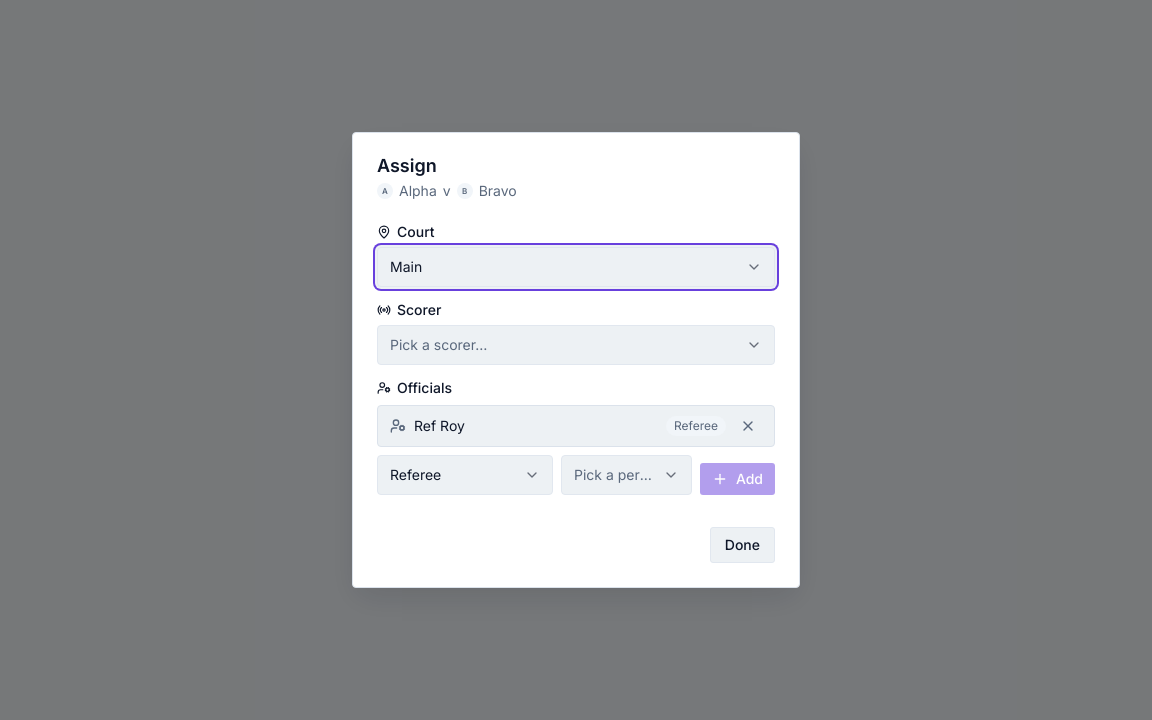
Scenario: AssignDrawer › reports a timed-out official assignment as still running, and refreshes
Click the button "Pick a person…" at (626, 475), box [561, 455, 692, 495]
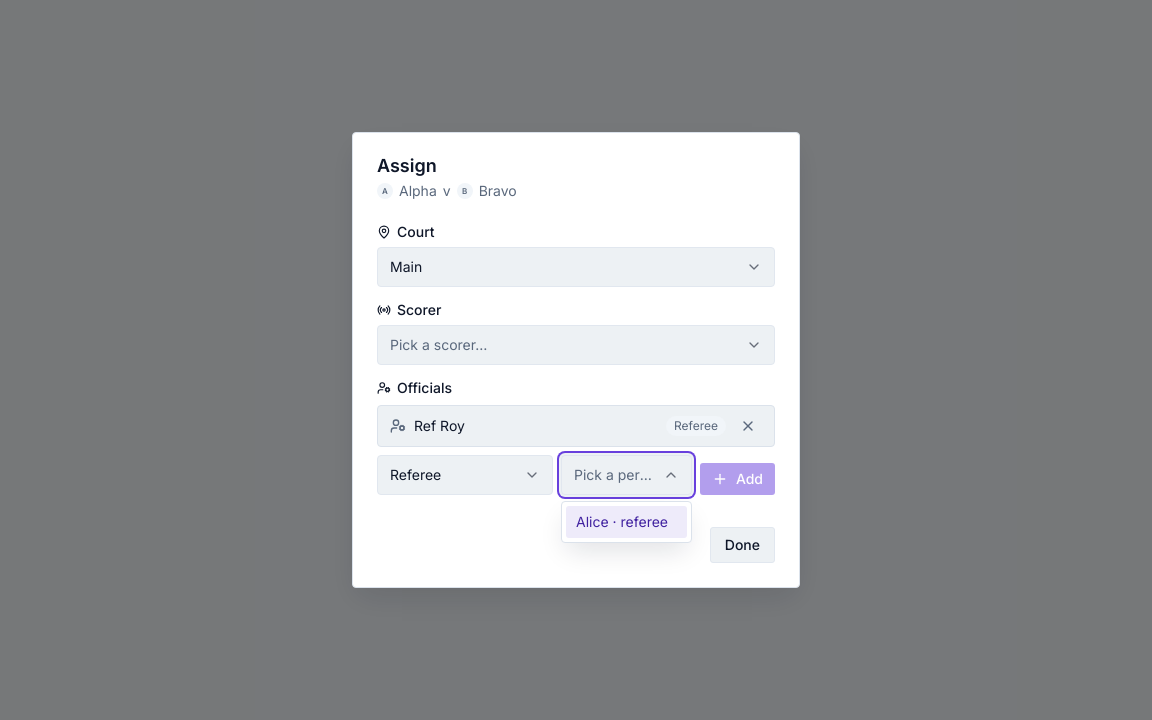
Click the option "Alice · referee" at (626, 522), box [566, 506, 687, 538]
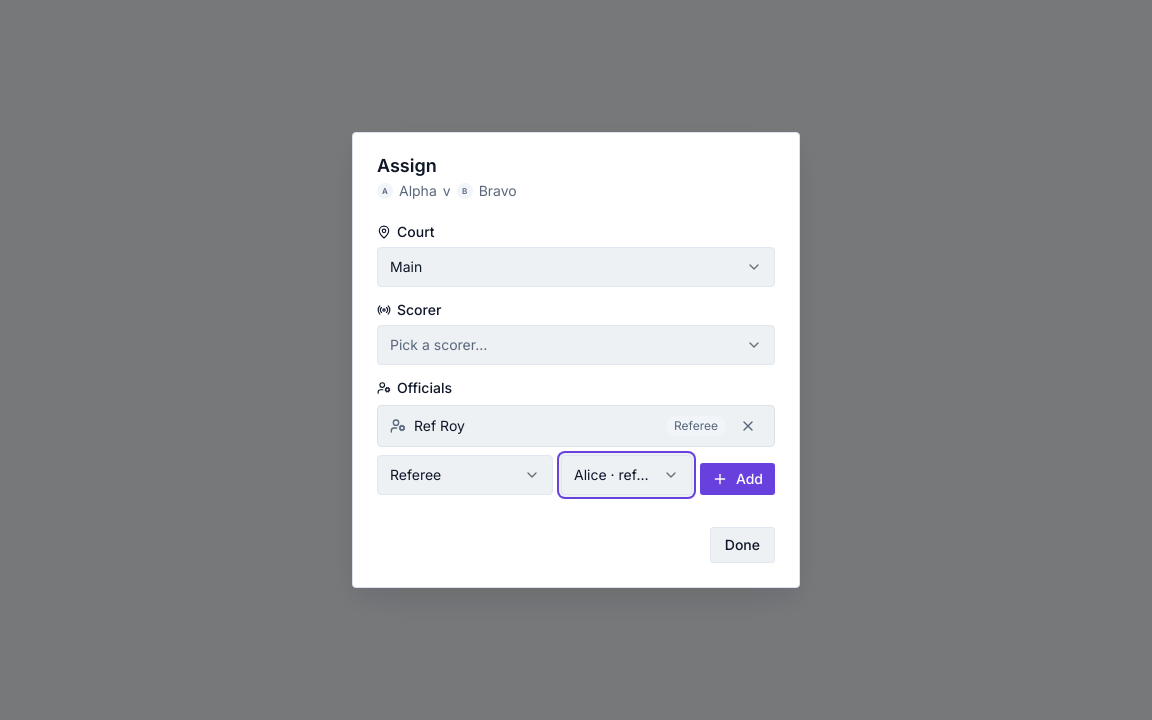
Click the button with test id "add-official" at (737, 479), box [700, 463, 775, 495]
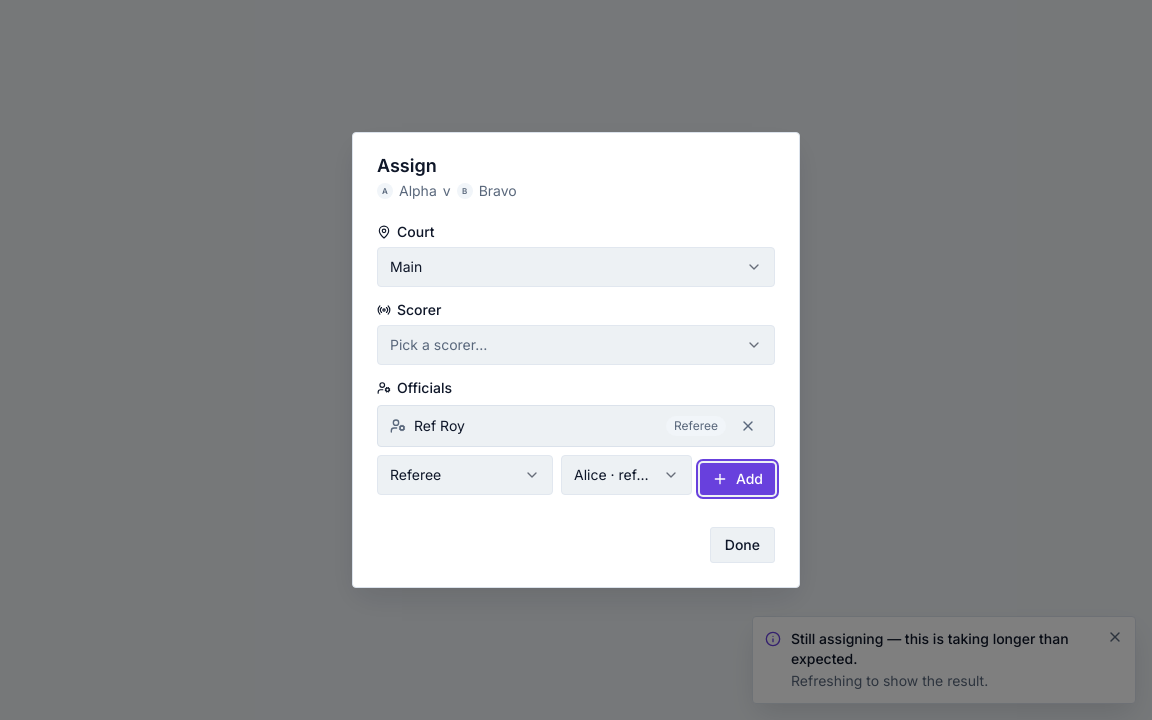
Result: the text "Still assigning — this is taking longer than expected." is shown at [791, 629, 1097, 669]
Result: the text "Refreshing to show the result." is shown at [791, 672, 988, 689]
